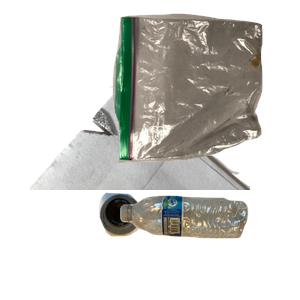glass: (96, 190, 230, 300)
paper: (10, 10, 250, 190)
plastic: (118, 193, 300, 300)
trash: (110, 11, 300, 167)
